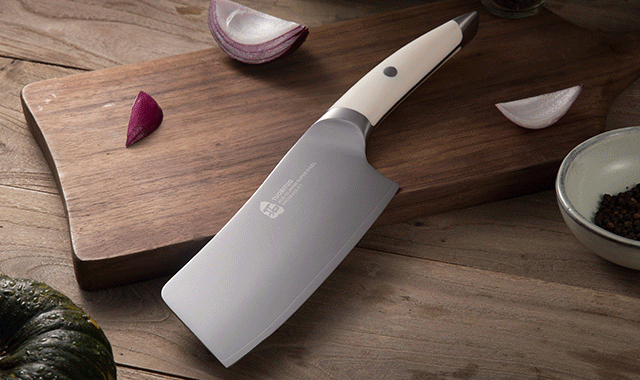knief: (184, 23, 468, 362)
